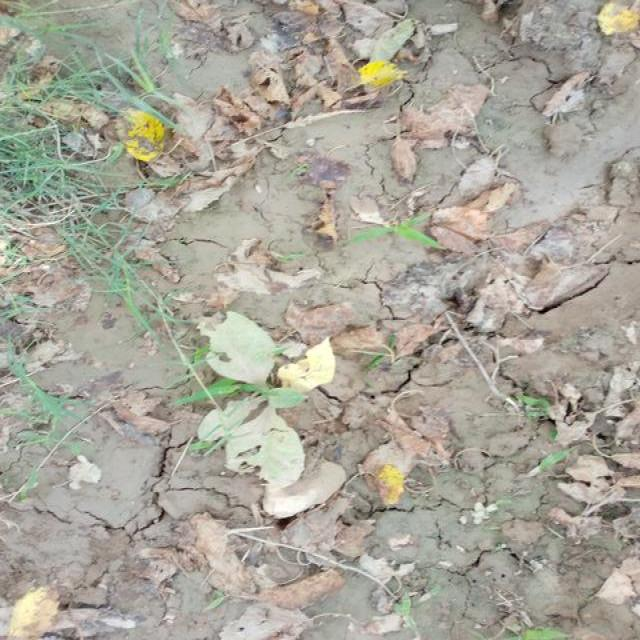crop: (194, 310, 332, 477)
